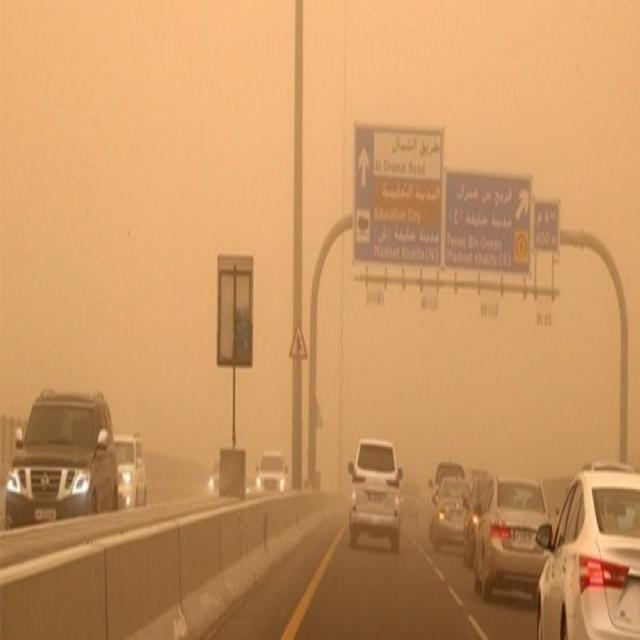car: (532, 458, 638, 638), (4, 391, 123, 524), (476, 472, 551, 606), (347, 447, 402, 546), (115, 428, 149, 506), (428, 456, 464, 528), (435, 474, 466, 549), (464, 474, 486, 564), (257, 447, 287, 492), (401, 472, 418, 520), (209, 452, 223, 491)
